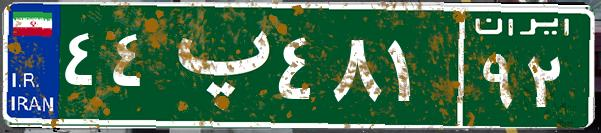1: (385, 28, 445, 110)
2: (525, 38, 570, 115)
4: (273, 28, 330, 110), (57, 26, 110, 107), (110, 28, 158, 105)
8: (330, 28, 385, 110)
9: (475, 38, 525, 113)
پ: (158, 15, 273, 115)
